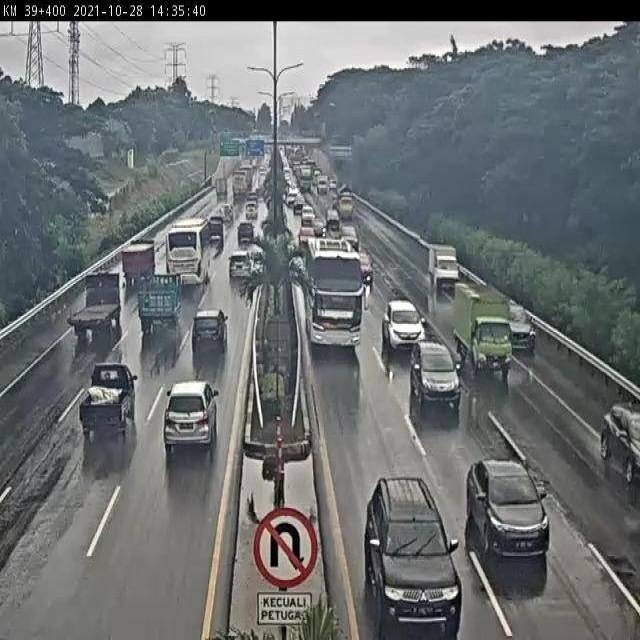big bus: (308, 238, 362, 346), (166, 218, 211, 286)
big truck: (232, 171, 250, 200)
car: (362, 476, 463, 631), (465, 457, 550, 556), (79, 363, 136, 437), (163, 379, 218, 453), (412, 341, 461, 403), (602, 403, 640, 481), (382, 300, 425, 345), (192, 308, 230, 357), (505, 304, 535, 349), (429, 246, 459, 286), (228, 251, 253, 281), (236, 221, 254, 243), (356, 255, 373, 277), (341, 226, 358, 246), (218, 206, 234, 226), (299, 225, 314, 243), (326, 208, 339, 225), (301, 208, 315, 223), (245, 202, 258, 218), (294, 197, 305, 211)
small truck: (455, 284, 512, 369), (66, 271, 123, 337), (138, 275, 183, 340), (121, 240, 159, 287), (336, 188, 353, 216), (208, 217, 225, 244)
